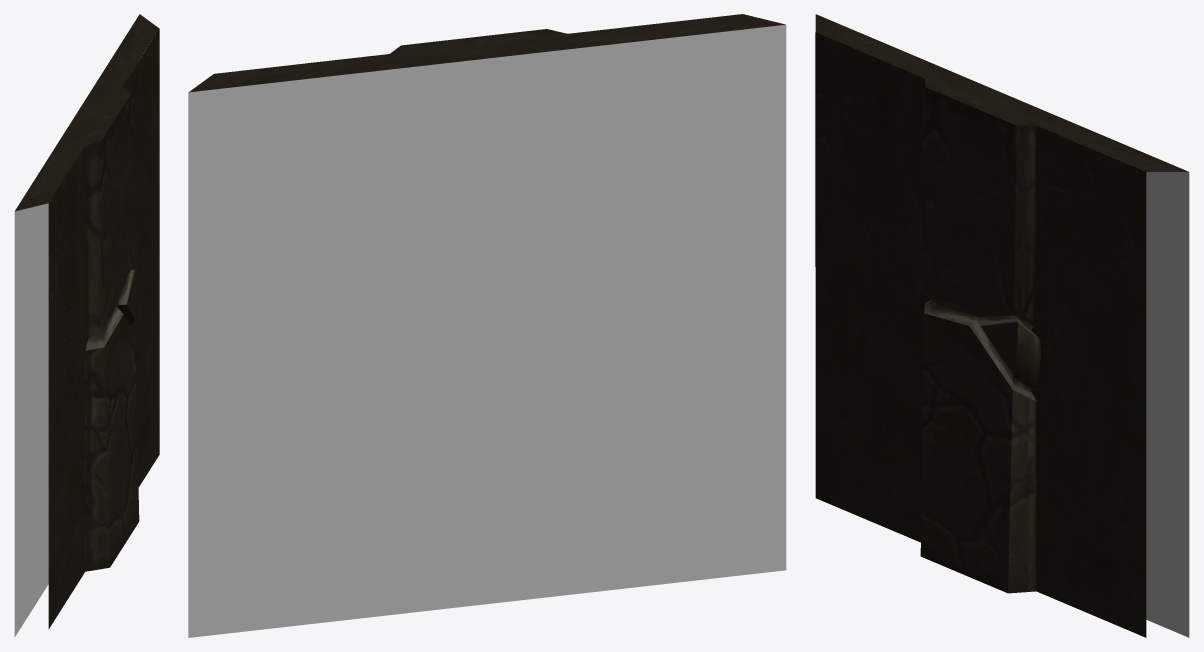
File: fortress_wall_diagonal_02_f.fbx
The picture shows the model from 3 angles, left to right: view 1: azimuth 30°, elevation 25°; view 2: azimuth 150°, elevation 25°; view 3: azimuth 270°, elevation 25°; orthographic projection. The views are drawn at different scales.
Parts seen in each view (by area): view 1: fortress_wall_diagonal_02_f-0; view 2: fortress_wall_diagonal_02_f-0; view 3: fortress_wall_diagonal_02_f-0.
Part boxes in pixels (x1,y1,x2,y2): fortress_wall_diagonal_02_f-0: [14, 14, 159, 637]; fortress_wall_diagonal_02_f-0: [188, 14, 786, 637]; fortress_wall_diagonal_02_f-0: [815, 14, 1189, 637].
Bounding box in the file's own units: 4 × 5.5 × 4.
